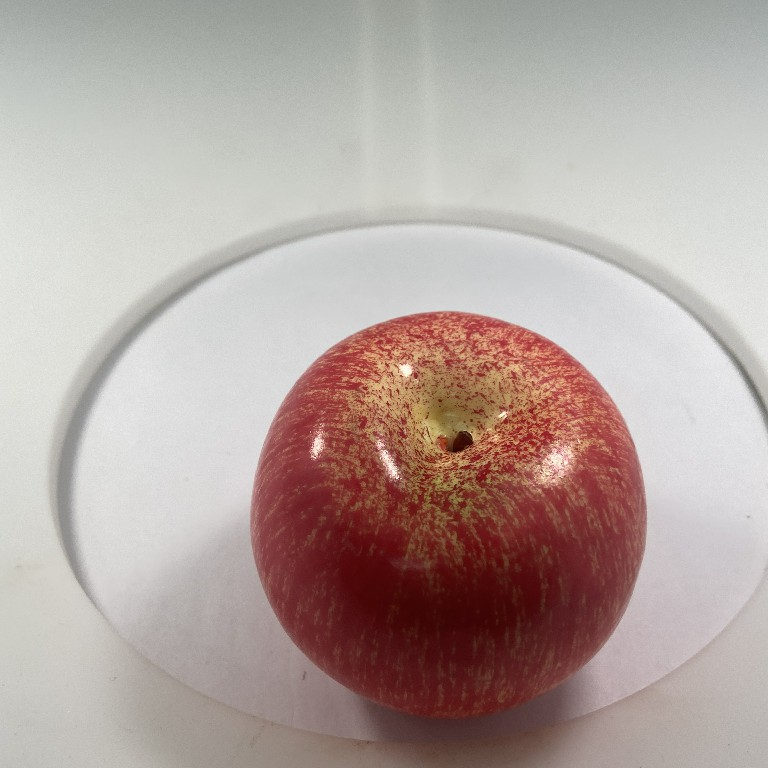fruit_apple: (242, 304, 651, 730)
